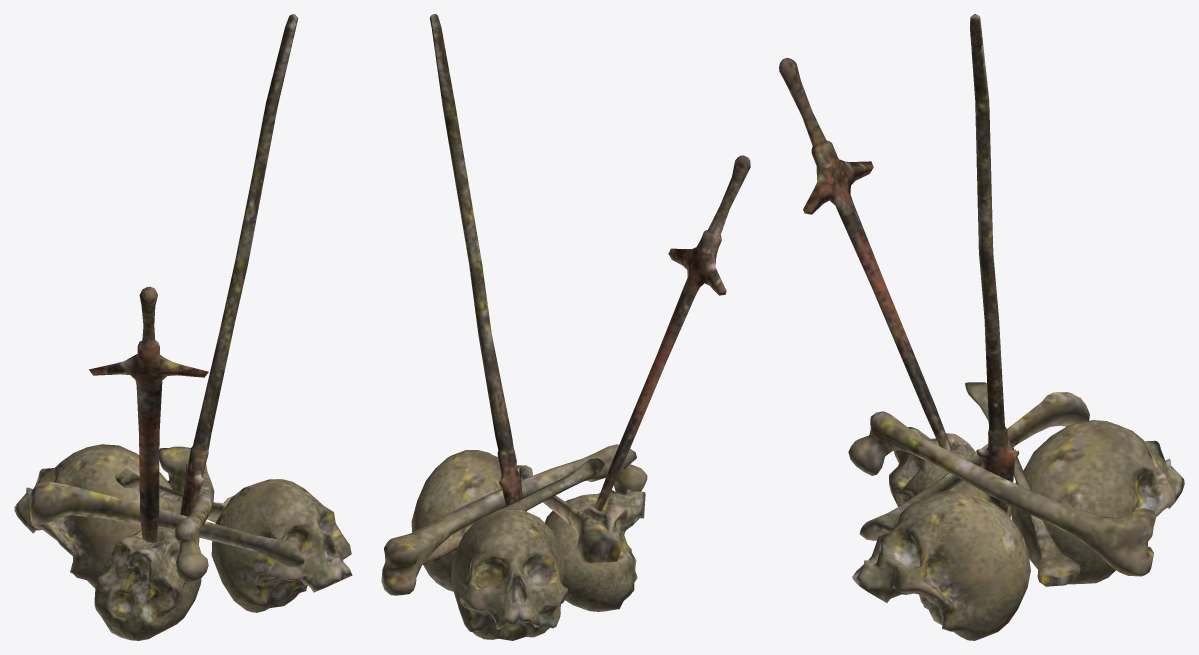
File: Valley_06-transformed.glb
The picture shows the model from 3 angles, left to right: view 1: azimuth 30°, elevation 25°; view 2: azimuth 150°, elevation 25°; view 3: azimuth 270°, elevation 25°; orthographic projection. The views are drawn at different scales.
Parts seen in each view (by area): view 1: default; view 2: default; view 3: default.
Boxes of the visible parts, <box> form: default: <box>14,14,352,640</box>; default: <box>381,14,750,640</box>; default: <box>779,14,1184,640</box>.
Bounding box in the file's own units: 1.26 × 2.5 × 1.46.
Materials: 1 (1 with a texture image).
